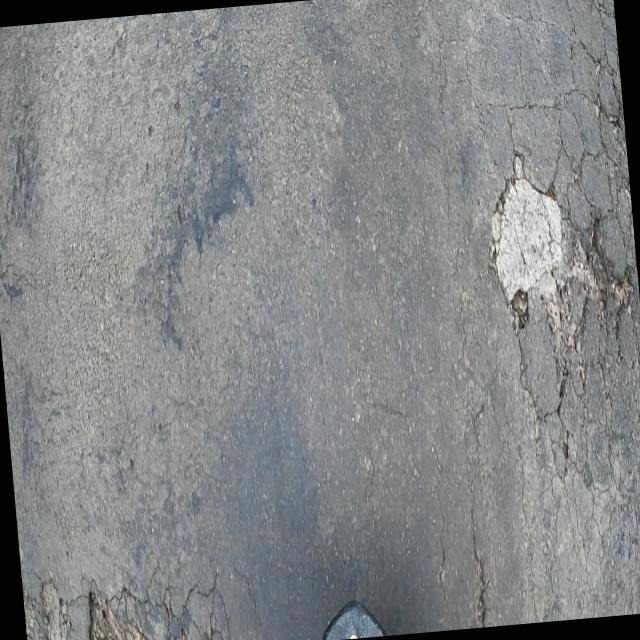Lubang: (491, 155, 563, 301)
